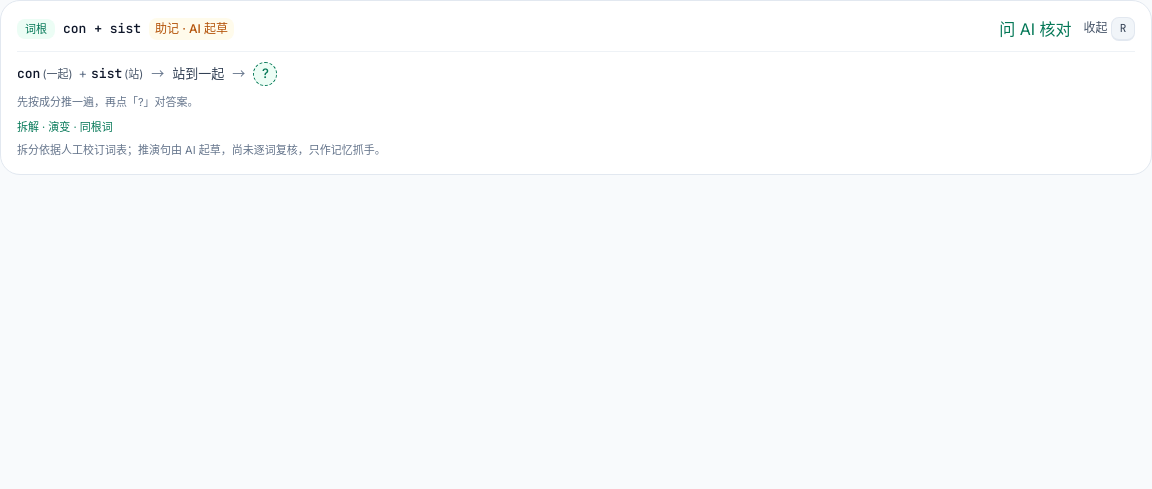
Test: 词根记忆链（卡片背面） › 拆解明细保留事实层：成分教学义与词源
Click the button "拆解 · 演变 · 同根词". click: (65, 127)
box: [17,118,113,135]
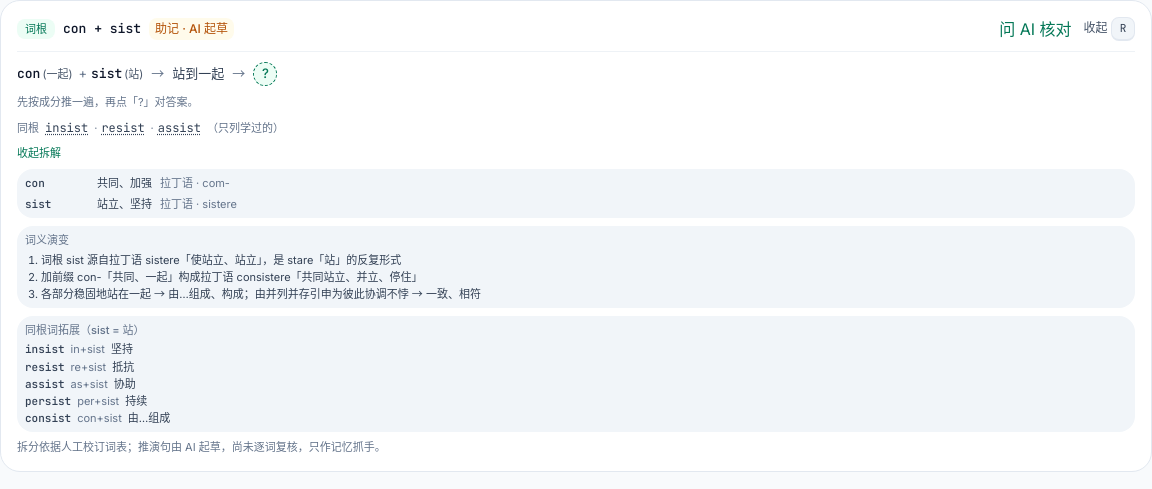
Result: the text "拉丁语 · sistere" is shown at [160,196,237,212]
Result: the text "站立、坚持" is shown at [97,196,152,212]
